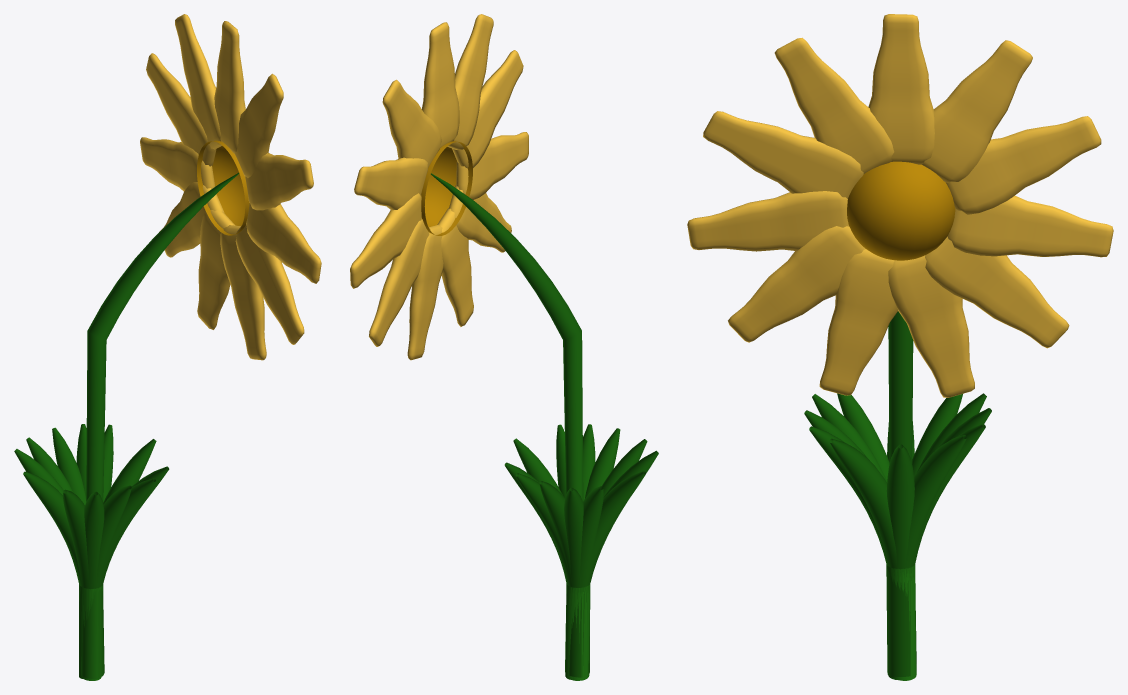
The model's file is flower-3.fbx.
The picture shows the model from 3 angles, left to right: view 1: azimuth 30°, elevation 25°; view 2: azimuth 150°, elevation 25°; view 3: azimuth 270°, elevation 25°; orthographic projection. The views are drawn at different scales.
Parts seen in each view (by area): view 1: Box, Cylinder, Cylinder3, Sphere, Cylinder1, Cylinder7, Cylinder8, Cylinder12, Cylinder6, Cylinder2, Cylinder11, Cylinder5 (+3 smaller); view 2: Box, Cylinder, Sphere, Cylinder2, Cylinder3, Cylinder12, Cylinder5, Cylinder8, Cylinder4, Cylinder10, Cylinder11, Cylinder6 (+3 smaller); view 3: Box, Sphere, Cylinder1, Cylinder, Cylinder11, Cylinder9, Cylinder8, Cylinder7, Cylinder4, Cylinder12, Cylinder10, Cylinder5.
Part boxes in pixels (x1,y1,x2,y2): Box: [140, 14, 321, 360]; Cylinder: [86, 173, 239, 502]; Cylinder3: [23, 471, 100, 679]; Sphere: [197, 140, 249, 235]; Cylinder1: [93, 439, 156, 678]; Cylinder7: [63, 489, 103, 595]; Cylinder8: [79, 491, 104, 590]; Cylinder12: [79, 478, 155, 673]; Cylinder6: [79, 485, 131, 590]; Cylinder2: [52, 427, 86, 601]; Cylinder11: [79, 466, 169, 679]; Cylinder5: [26, 437, 101, 680]; Box: [350, 14, 528, 360]; Cylinder: [431, 173, 583, 501]; Sphere: [421, 141, 472, 235]; Cylinder2: [539, 481, 588, 677]; Cylinder3: [569, 471, 645, 673]; Cylinder12: [566, 424, 595, 680]; Cylinder5: [564, 487, 590, 605]; Cylinder8: [565, 439, 647, 679]; Cylinder4: [575, 486, 603, 619]; Cylinder10: [515, 473, 587, 591]; Cylinder11: [556, 424, 590, 680]; Cylinder6: [583, 428, 620, 593]; Box: [687, 14, 1113, 397]; Sphere: [847, 161, 955, 260]; Cylinder1: [886, 444, 914, 676]; Cylinder: [888, 311, 913, 463]; Cylinder11: [829, 438, 914, 578]; Cylinder9: [888, 435, 966, 676]; Cylinder8: [812, 394, 916, 679]; Cylinder7: [837, 393, 915, 680]; Cylinder4: [888, 394, 962, 679]; Cylinder12: [809, 426, 915, 584]; Cylinder10: [887, 424, 985, 576]; Cylinder5: [889, 393, 986, 679].
Size of the model in its own units: 2.29 by 5.64 by 2.94.
